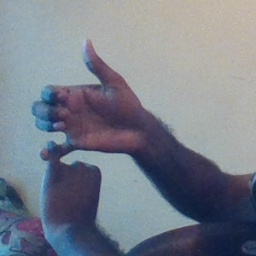S: (30, 34, 140, 215)
